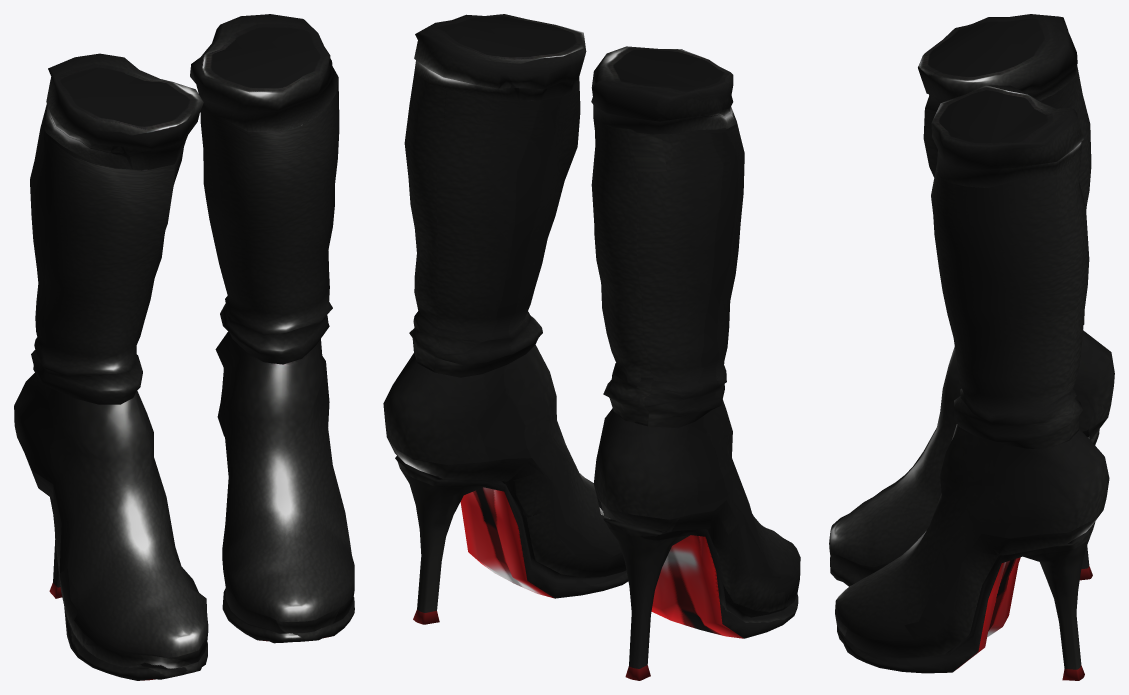
The model's file is KIU_LongBoots.fbx.
3 renders of one model, left to right at view 1: azimuth 30°, elevation 25°; view 2: azimuth 150°, elevation 25°; view 3: azimuth 270°, elevation 25°, orthographic. The views are drawn at different scales.
Parts seen in each view (by area): view 1: Boot.OBJ; view 2: Boot.OBJ; view 3: Boot.OBJ.
Boxes of the visible parts, <box> form: Boot.OBJ: <box>14,14,354,680</box>; Boot.OBJ: <box>383,14,800,680</box>; Boot.OBJ: <box>829,14,1114,680</box>.
Bounding box in the file's own units: 0.1717 × 0.2935 × 0.1375.
